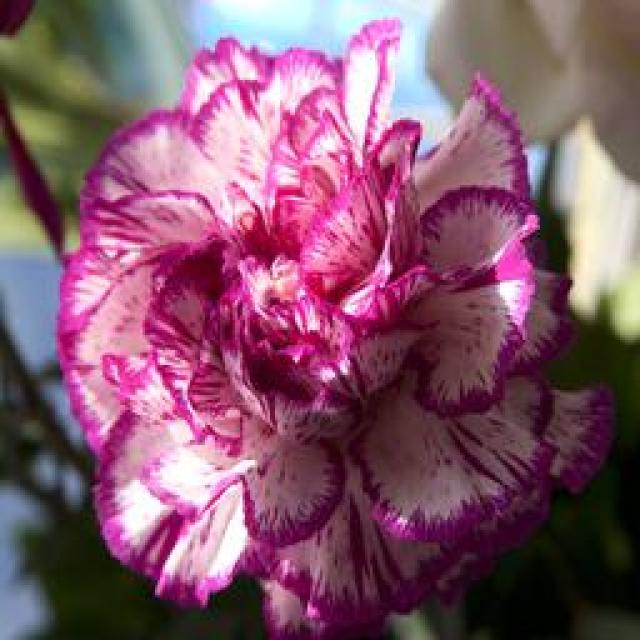carnation: (60, 52, 630, 637)
